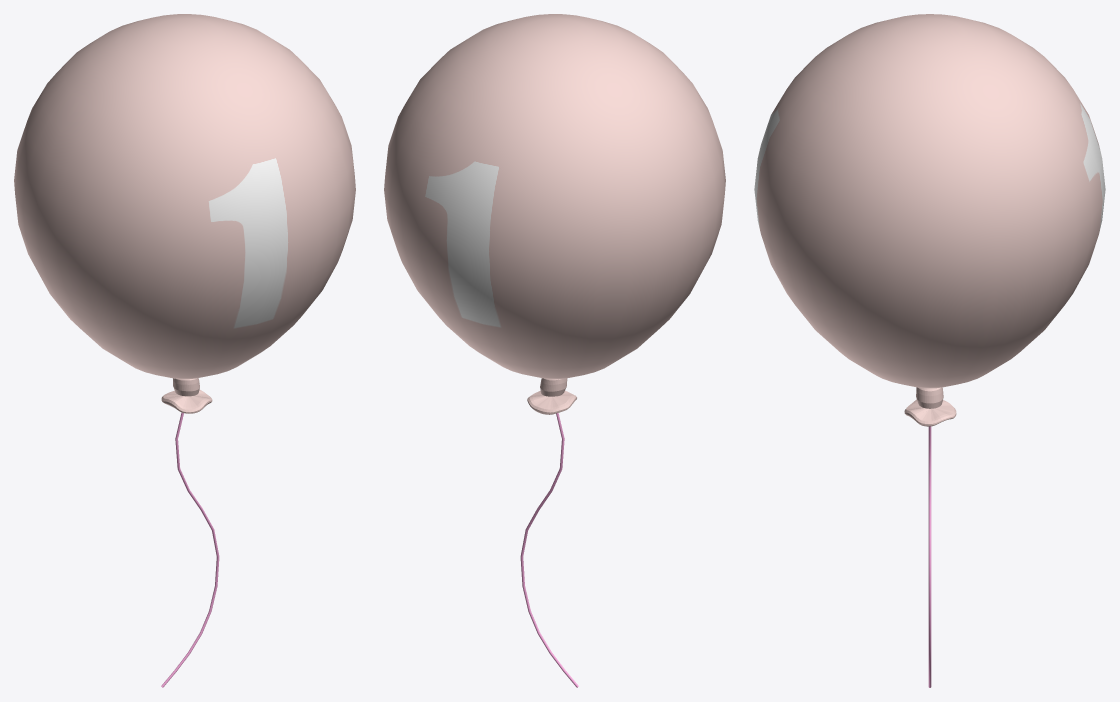
File: balloon01.glb
3 views of the same model, side by side, from view 1: azimuth 30°, elevation 25°; view 2: azimuth 150°, elevation 25°; view 3: azimuth 270°, elevation 25° (orthographic). The views are drawn at different scales.
Parts seen in each view (by area): view 1: Object001; view 2: Object001; view 3: Object001.
Part boxes in pixels (bbox=[...]): Object001: bbox=[14, 14, 355, 687]; Object001: bbox=[384, 14, 725, 687]; Object001: bbox=[754, 14, 1105, 687].
Size of the model in its own units: 1.28 by 2.69 by 1.28.
Materials: 1 (1 with a texture image).
